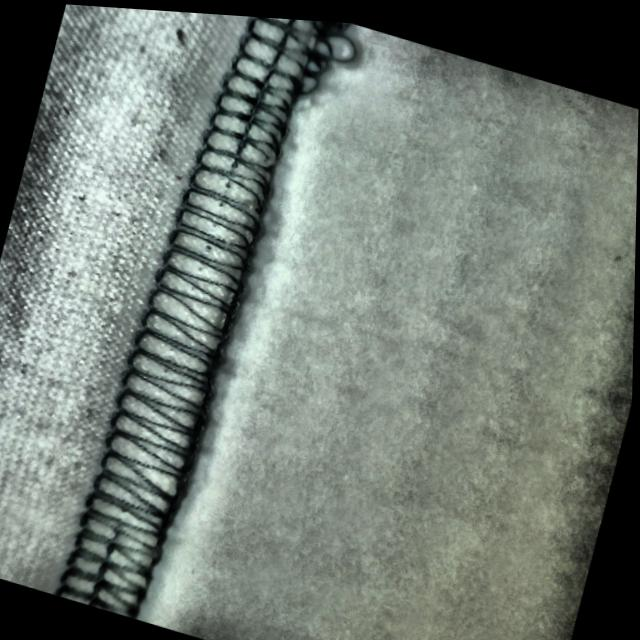Stitch: (229, 12, 366, 103)
